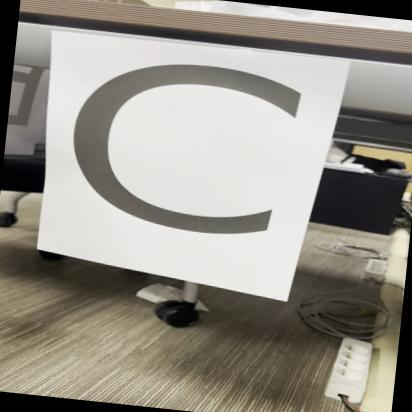seat: (36, 31, 330, 292)
